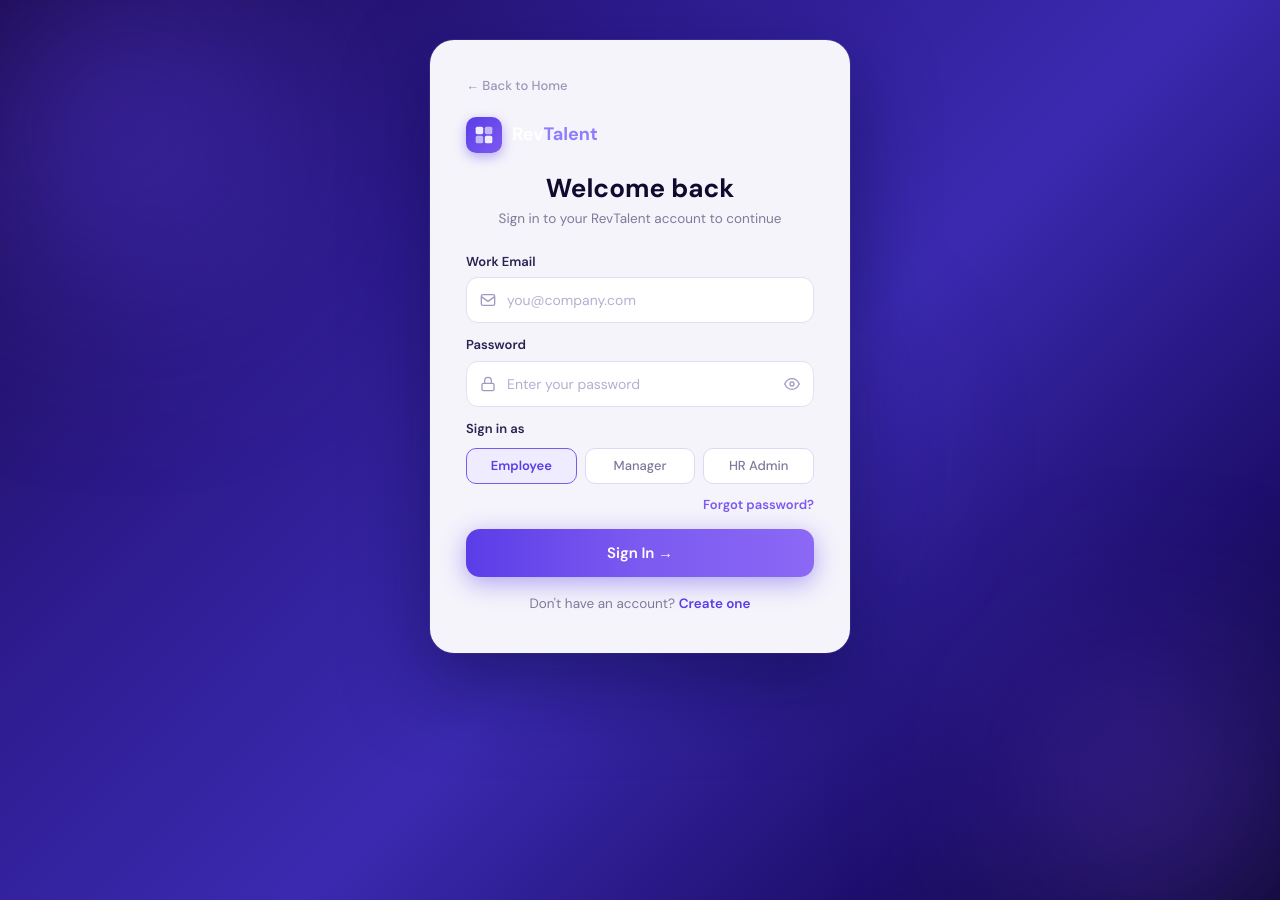
it: Validation - Error Messages on Invalid Input › shows error when both fields are empty and Sign In is clicked
Click the button "Sign In →" at coordinates (640, 553), box [466,529,814,577]
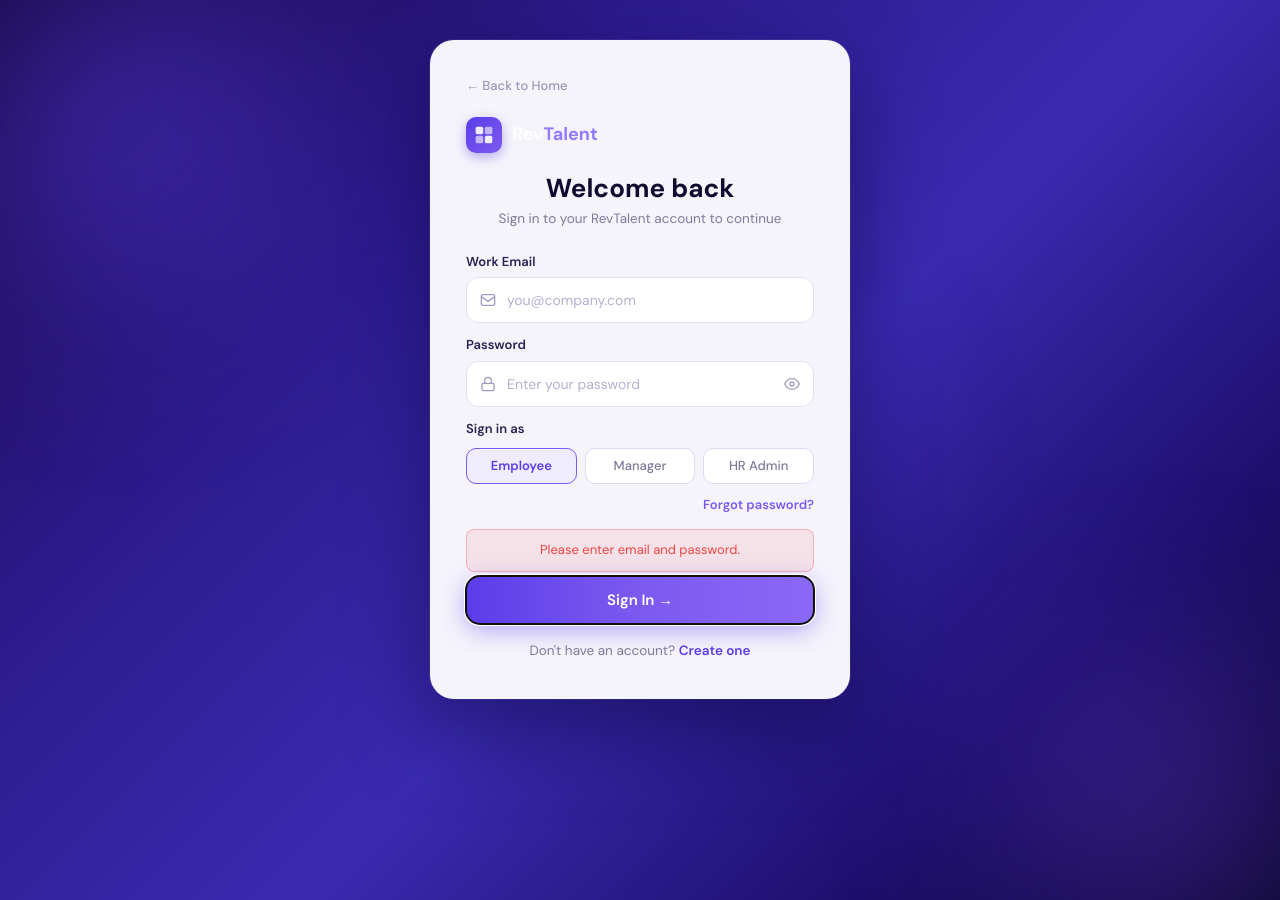
Expected: the text "Please enter email and password." is shown, [466,529,814,572]
